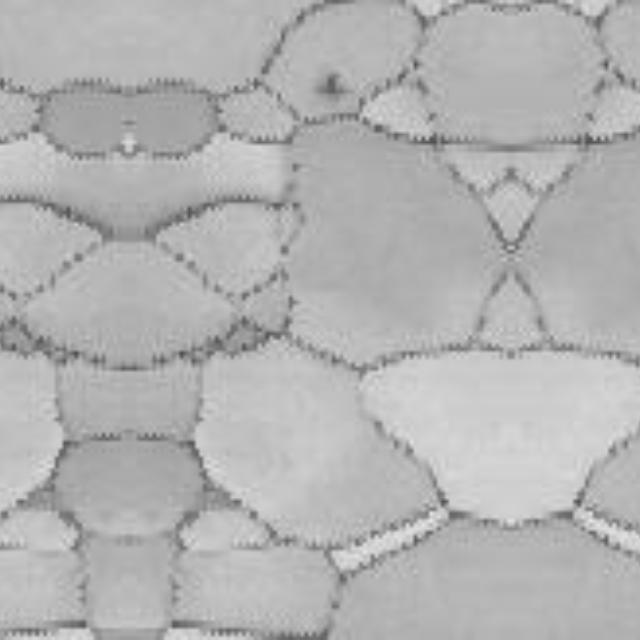good_void: (315, 76, 354, 102)
